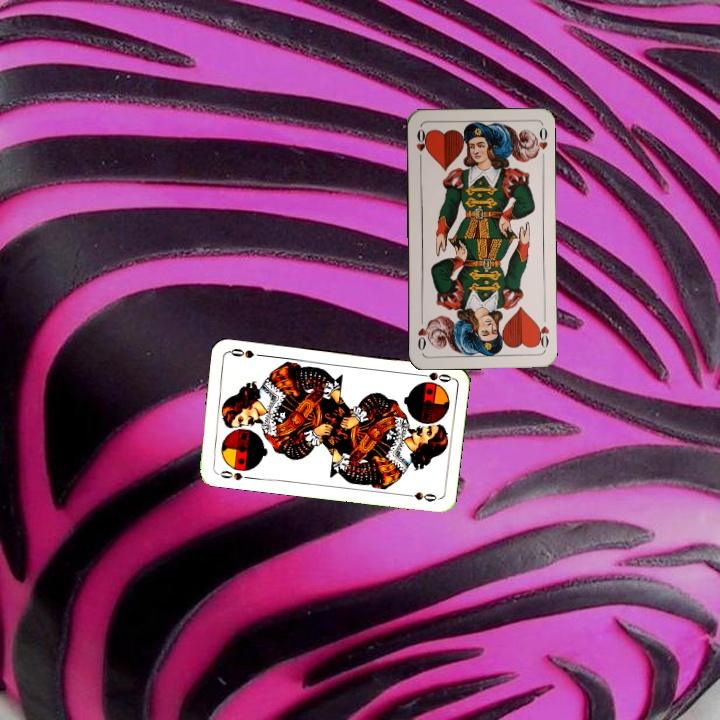HO: (532, 311, 551, 352), (412, 125, 430, 165)
SO: (413, 368, 454, 385), (212, 466, 245, 483)
